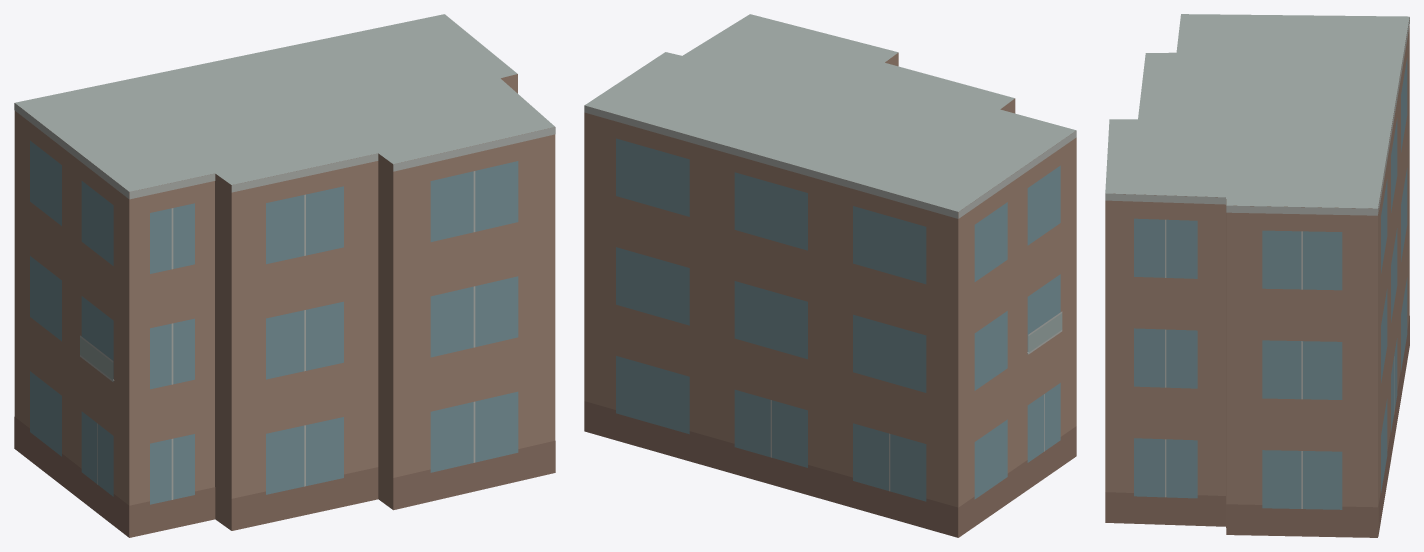
Rendered from survey-upis-32469046.glb.
The picture shows the model from 3 angles, left to right: view 1: azimuth 30°, elevation 25°; view 2: azimuth 150°, elevation 25°; view 3: azimuth 270°, elevation 25°; orthographic projection. The views are drawn at different scales.
Visible parts, largest first — view 1: survey-upis-32469046.tmp; view 2: survey-upis-32469046.tmp; view 3: survey-upis-32469046.tmp.
Boxes of the visible parts, x1=… form: survey-upis-32469046.tmp: x1=14, y1=14, x2=555, y2=537; survey-upis-32469046.tmp: x1=584, y1=14, x2=1076, y2=537; survey-upis-32469046.tmp: x1=1105, y1=14, x2=1409, y2=537.
Bounding box in the file's own units: 14.27 × 11.25 × 9.44.
